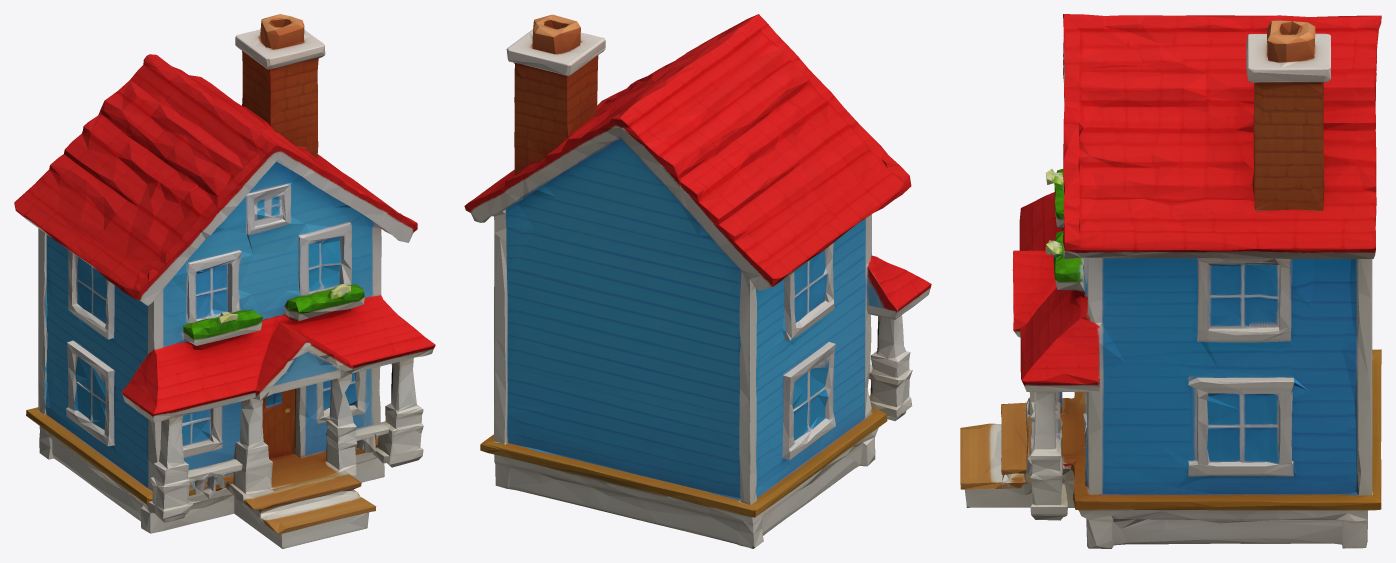
The model's file is suburban_house.glb.
3 views of the same model, side by side, from view 1: azimuth 30°, elevation 25°; view 2: azimuth 150°, elevation 25°; view 3: azimuth 270°, elevation 25° (orthographic). The views are drawn at different scales.
Visible parts, largest first — view 1: geometry_0; view 2: geometry_0; view 3: geometry_0.
Part boxes in pixels (x1,y1,x2,y2): geometry_0: [14, 14, 435, 548]; geometry_0: [464, 14, 931, 548]; geometry_0: [960, 14, 1381, 548].
Size of the model in its own units: 0.7384 by 1 by 0.7558.
1 material, 1 textured.
